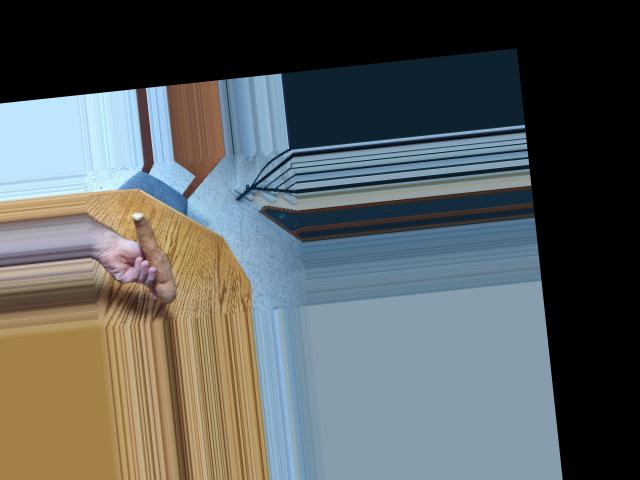sweet_potato: (129, 206, 182, 302)
